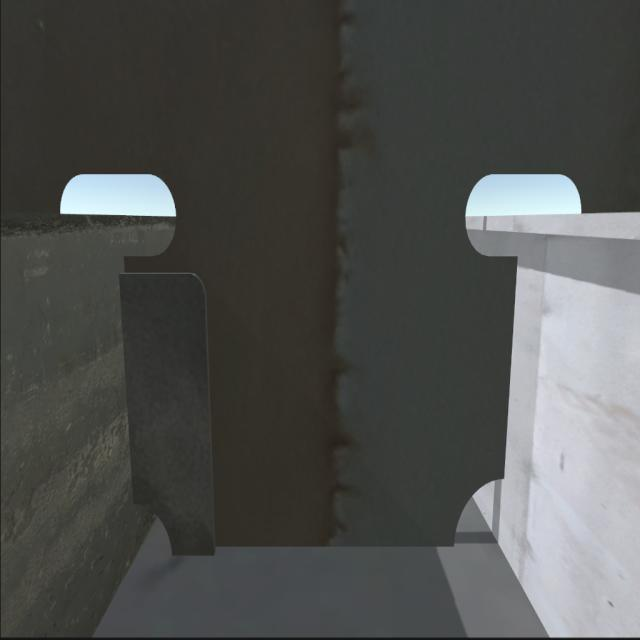fillet_hole: (451, 476, 502, 550), (136, 507, 176, 557)
fillet_yong_jeop_jang: (170, 531, 465, 565)
longi_yong_jeop_jang: (118, 250, 138, 503), (501, 254, 515, 481)
plate_CP05: (119, 272, 215, 558)
